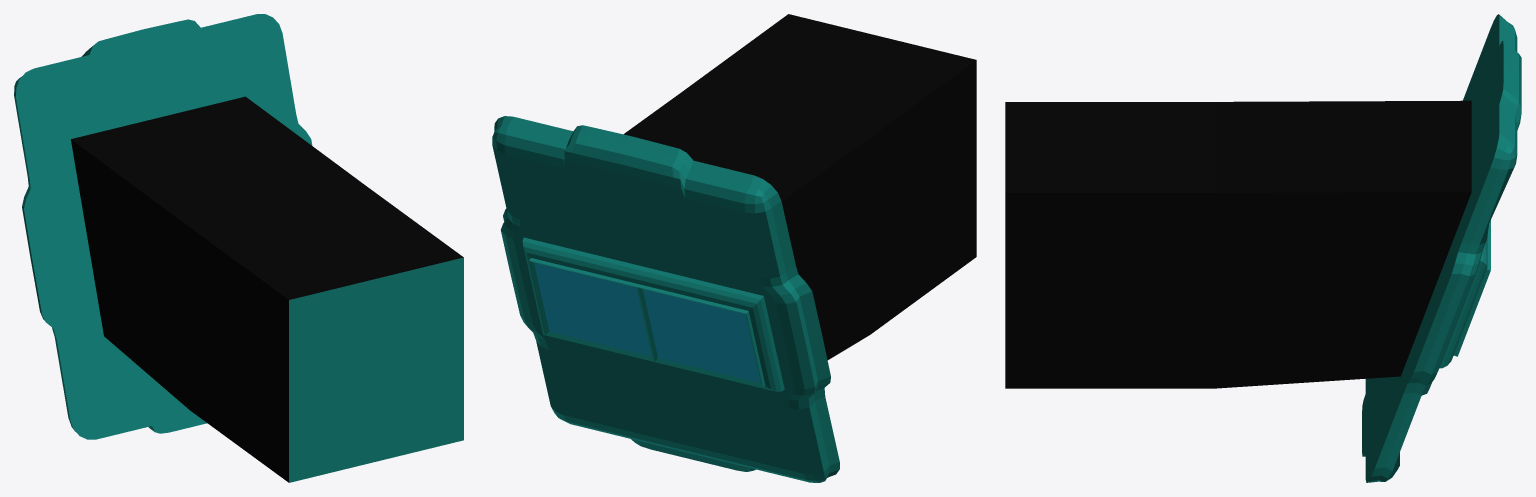
File: CPU-Upgrade1.fbx
The picture shows the model from 3 angles, left to right: view 1: azimuth 30°, elevation 25°; view 2: azimuth 150°, elevation 25°; view 3: azimuth 270°, elevation 25°; orthographic projection. The views are drawn at different scales.
Parts seen in each view (by area): view 1: Cpu2; view 2: Cpu2; view 3: Cpu2.
Boxes of the visible parts, x1,y1,x2,y2 form: Cpu2: (14, 14, 463, 482); Cpu2: (492, 14, 976, 482); Cpu2: (1005, 14, 1521, 482).
Size of the model in its own units: 329 by 377 by 479.
